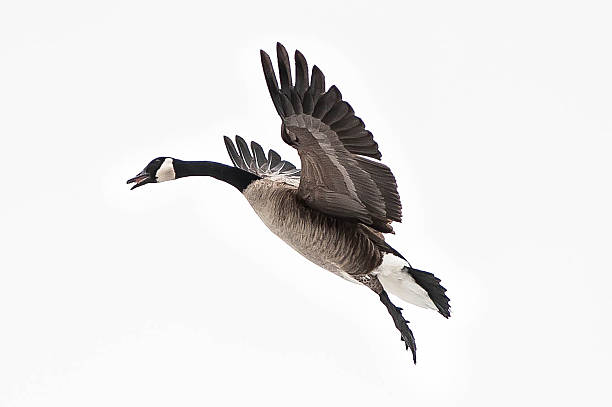goose: (124, 40, 452, 368)
